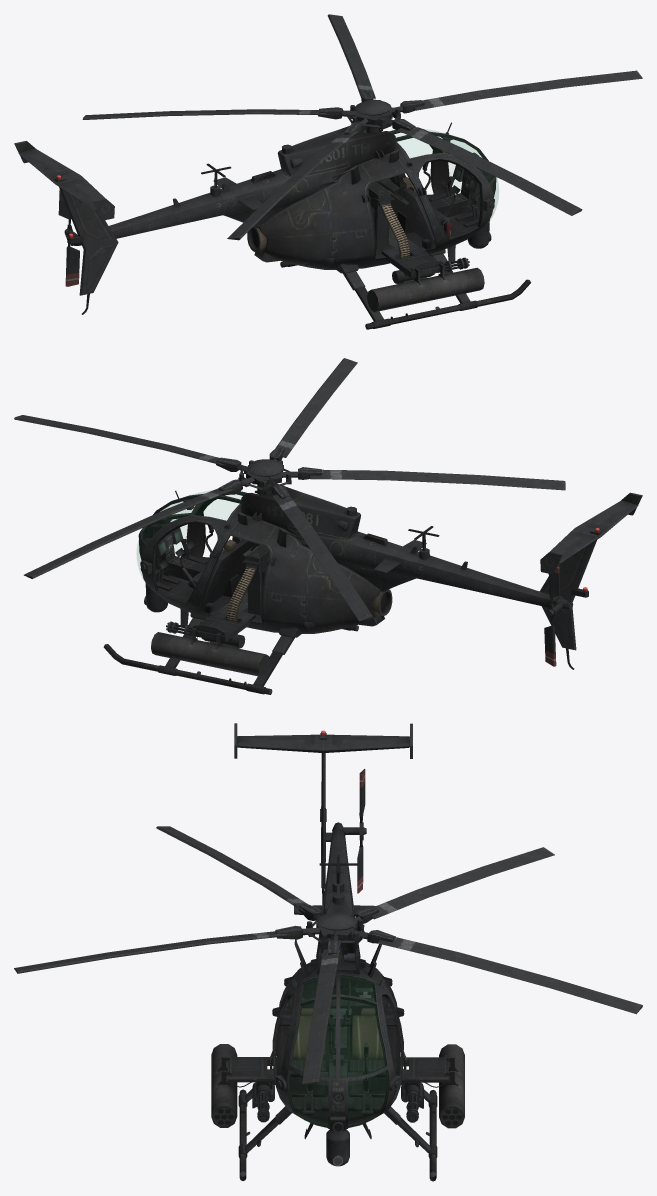
Rendered from heli.glb.
The picture shows the model from 3 angles, top to bottom: view 1: azimuth 30°, elevation 25°; view 2: azimuth 150°, elevation 25°; view 3: azimuth 270°, elevation 25°; orthographic projection. The views are drawn at different scales.
Parts seen in each view (by area): view 1: body_mesh, rotor_main_mesh, rotor_tail_mesh; view 2: body_mesh, rotor_main_mesh, rotor_tail_mesh; view 3: body_mesh, rotor_main_mesh, rotor_tail_mesh.
Part boxes in pixels (x1,y1,x2,y2): body_mesh: [14, 122, 530, 329]; rotor_main_mesh: [82, 14, 642, 240]; rotor_tail_mesh: [58, 189, 79, 286]; body_mesh: [103, 483, 642, 694]; rotor_main_mesh: [14, 358, 565, 621]; rotor_tail_mesh: [544, 564, 560, 666]; body_mesh: [211, 723, 464, 1181]; rotor_main_mesh: [14, 826, 642, 1084]; rotor_tail_mesh: [357, 769, 366, 893].
Size of the model in its own units: 2.78 by 0.9336 by 2.34.
2 materials, 1 textured.
